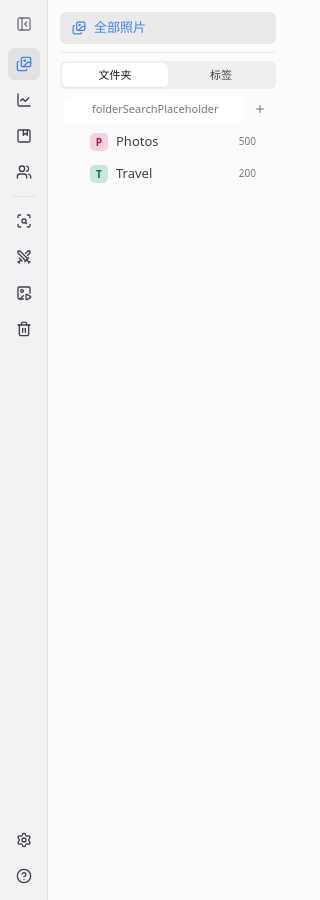
Test: Sidebar › filters folders by display name
The width and height of the screenshot is (320, 900).
Type "travel" into the search field labelled "folderSearchPlaceholder" at (154, 109), box [64,97,244,122]
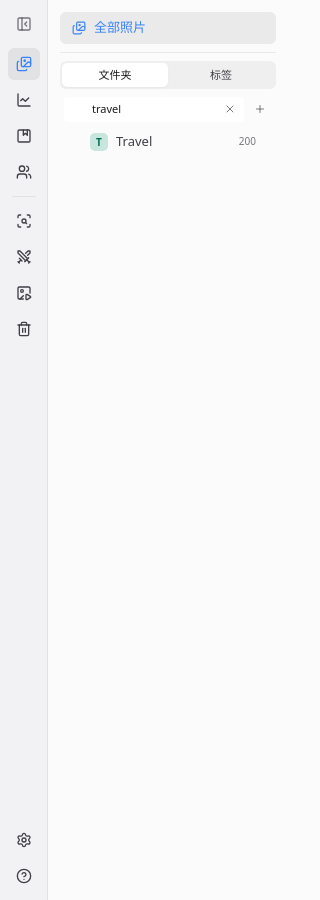
Expected: the text "Travel" is shown, [116,132,152,150]
Expected: the list item "Photos" is gone
